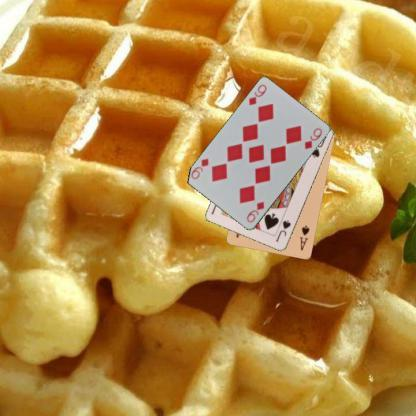9d: (244, 199, 266, 224), (246, 82, 268, 107)
As: (297, 223, 311, 252)
Js: (272, 218, 292, 243)
